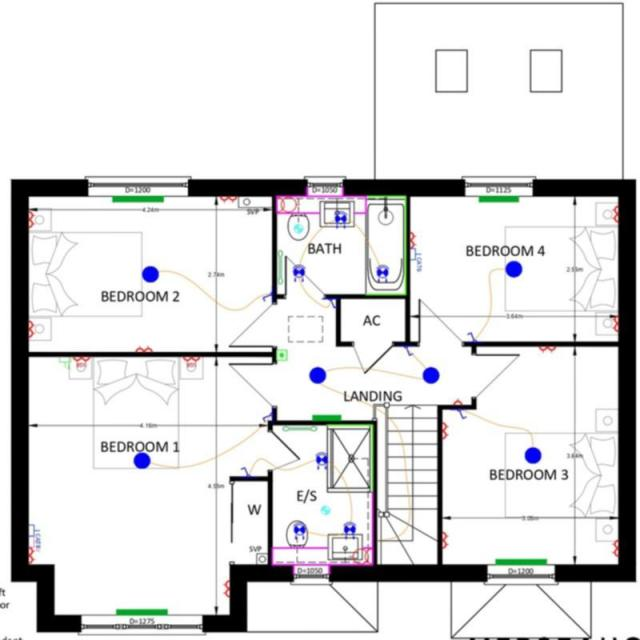Cat 6 Data Socket: (409, 248, 422, 271), (28, 523, 39, 547)
Ceiling Mounted Continuous Extract FanWith Boost Mode Activated By Light Switch: (293, 223, 302, 233), (320, 505, 329, 514)
Co-Ax TV Socket: (28, 535, 40, 551)
Double Socket: (610, 314, 618, 332), (610, 539, 618, 556), (27, 546, 35, 562), (219, 195, 237, 202), (134, 344, 152, 351), (611, 204, 618, 222), (28, 320, 35, 337), (28, 210, 34, 228), (538, 346, 556, 352), (222, 580, 228, 597), (442, 531, 448, 548), (410, 231, 416, 247), (442, 422, 448, 438)
Full Height Tiling: (366, 196, 406, 294), (326, 423, 372, 491)
Light Switch: (402, 345, 413, 356), (240, 466, 250, 476), (466, 331, 476, 341), (456, 409, 467, 418), (262, 292, 271, 302), (262, 412, 271, 422), (328, 298, 335, 307)
Low Energy Downlighter: (375, 264, 389, 282), (292, 521, 306, 539), (342, 521, 356, 538), (292, 264, 305, 281), (334, 210, 346, 228), (314, 451, 326, 469)
Low Energy Pendant Light: (308, 366, 326, 384), (141, 264, 158, 282), (132, 452, 150, 469), (524, 446, 541, 464), (422, 366, 439, 383), (506, 259, 522, 277)
Programmable Room Thermostat: (276, 349, 286, 360)
Radiator: (112, 195, 163, 202), (116, 608, 167, 615), (496, 558, 546, 565), (478, 195, 518, 202), (312, 414, 340, 420)
Shaver Socket: (276, 196, 299, 211), (348, 548, 371, 563)
Single Socket: (453, 398, 461, 404)
Telephone Socket: (59, 356, 70, 368)
USB Double Socket: (72, 356, 90, 366), (182, 356, 200, 366)
